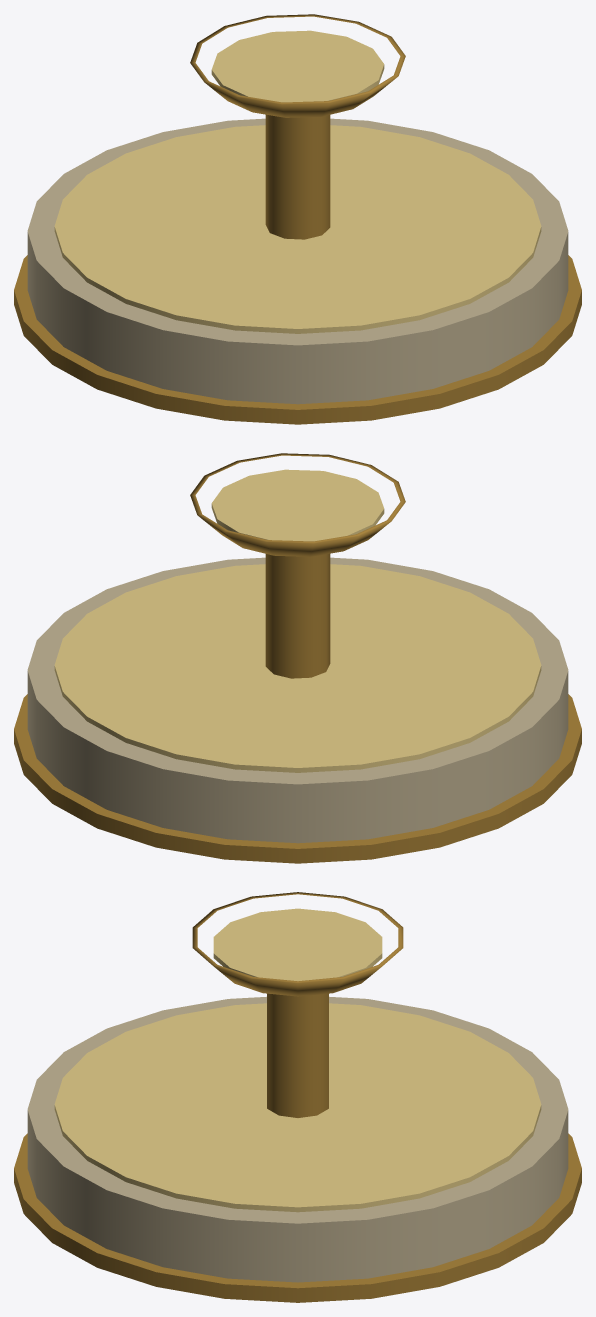
The model's file is palace_f_fountain.glb.
3 views of the same model, one above another, from view 1: azimuth 30°, elevation 25°; view 2: azimuth 150°, elevation 25°; view 3: azimuth 270°, elevation 25° (orthographic).
Parts seen in each view (by area): view 1: sw5e_int_palace_f_fountain; view 2: sw5e_int_palace_f_fountain; view 3: sw5e_int_palace_f_fountain.
Part boxes in pixels (left/top/right/bottom): sw5e_int_palace_f_fountain: left=14, top=14, right=581, bottom=424; sw5e_int_palace_f_fountain: left=14, top=453, right=581, bottom=863; sw5e_int_palace_f_fountain: left=14, top=892, right=581, bottom=1302.
Bounding box in the file's own units: 2.1 × 1 × 2.1.
